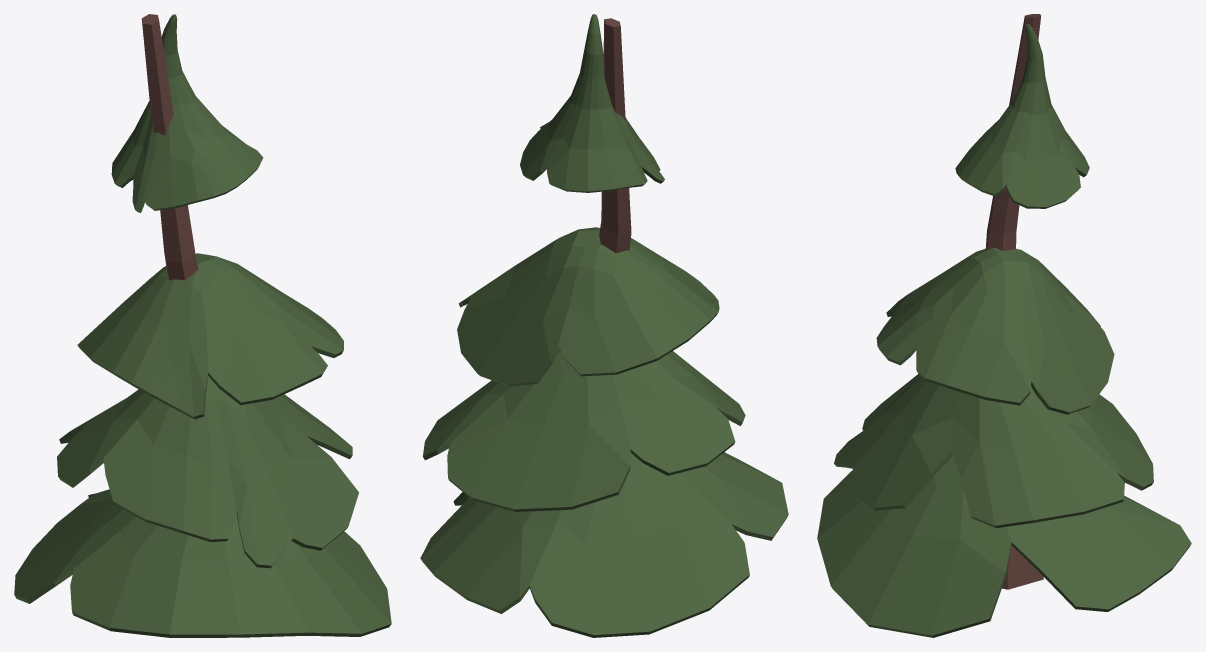
Rendered from tree_pine.glb.
3 renders of one model, left to right at view 1: azimuth 30°, elevation 25°; view 2: azimuth 150°, elevation 25°; view 3: azimuth 270°, elevation 25°, orthographic. The views are drawn at different scales.
Parts seen in each view (by area): view 1: PineTree_2_2, PineTree_2_1; view 2: PineTree_2_2, PineTree_2_1; view 3: PineTree_2_2, PineTree_2_1.
Part boxes in pixels (x1,y1,x2,y2): PineTree_2_2: (14, 14, 391, 637); PineTree_2_1: (141, 14, 198, 280); PineTree_2_2: (420, 14, 788, 637); PineTree_2_1: (599, 18, 631, 253); PineTree_2_2: (817, 24, 1191, 637); PineTree_2_1: (985, 14, 1043, 589).
Size of the model in its own units: 58889 by 102988 by 64143.
